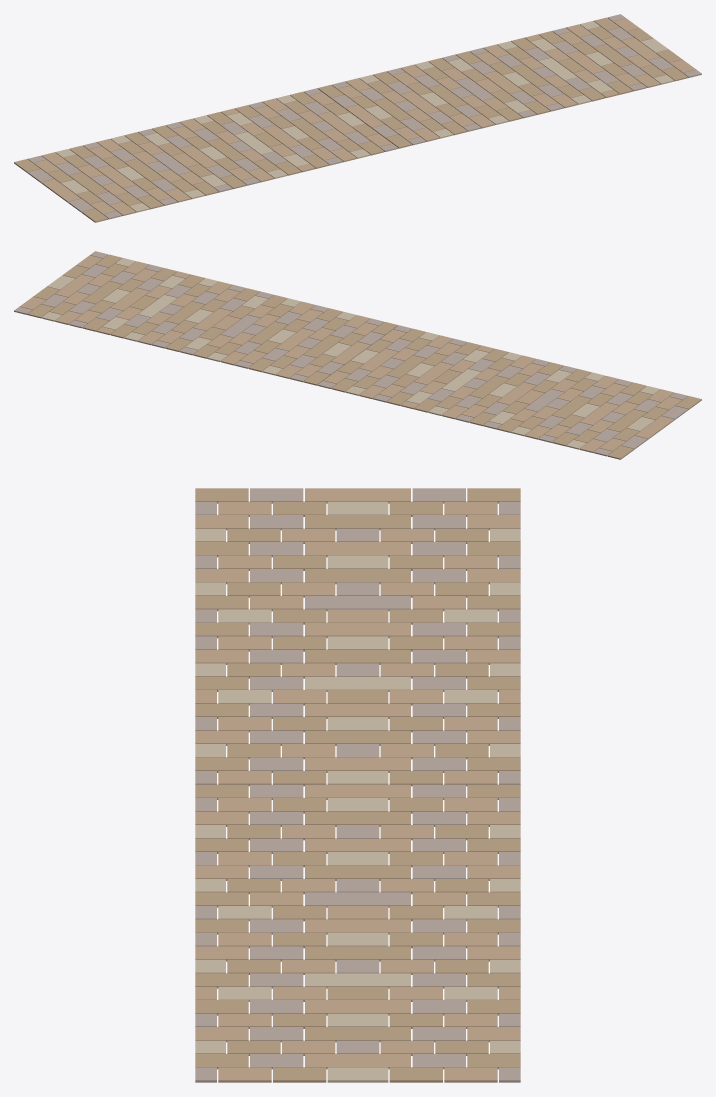
The model's file is path.glb.
3 renders of one model, top to bottom at view 1: azimuth 30°, elevation 25°; view 2: azimuth 150°, elevation 25°; view 3: azimuth 270°, elevation 25°, orthographic. The views are drawn at different scales.
Parts seen in each view (by area): view 1: Mesh_Mesh_head_geo.001_lambert2SG.001; view 2: Mesh_Mesh_head_geo.001_lambert2SG.001; view 3: Mesh_Mesh_head_geo.001_lambert2SG.001.
Boxes of the visible parts, <box> form: Mesh_Mesh_head_geo.001_lambert2SG.001: <box>14,14,701,222</box>; Mesh_Mesh_head_geo.001_lambert2SG.001: <box>14,251,701,459</box>; Mesh_Mesh_head_geo.001_lambert2SG.001: <box>195,488,520,1082</box>.
Size of the model in its own units: 2.55 by 0.00503 by 0.5906.
